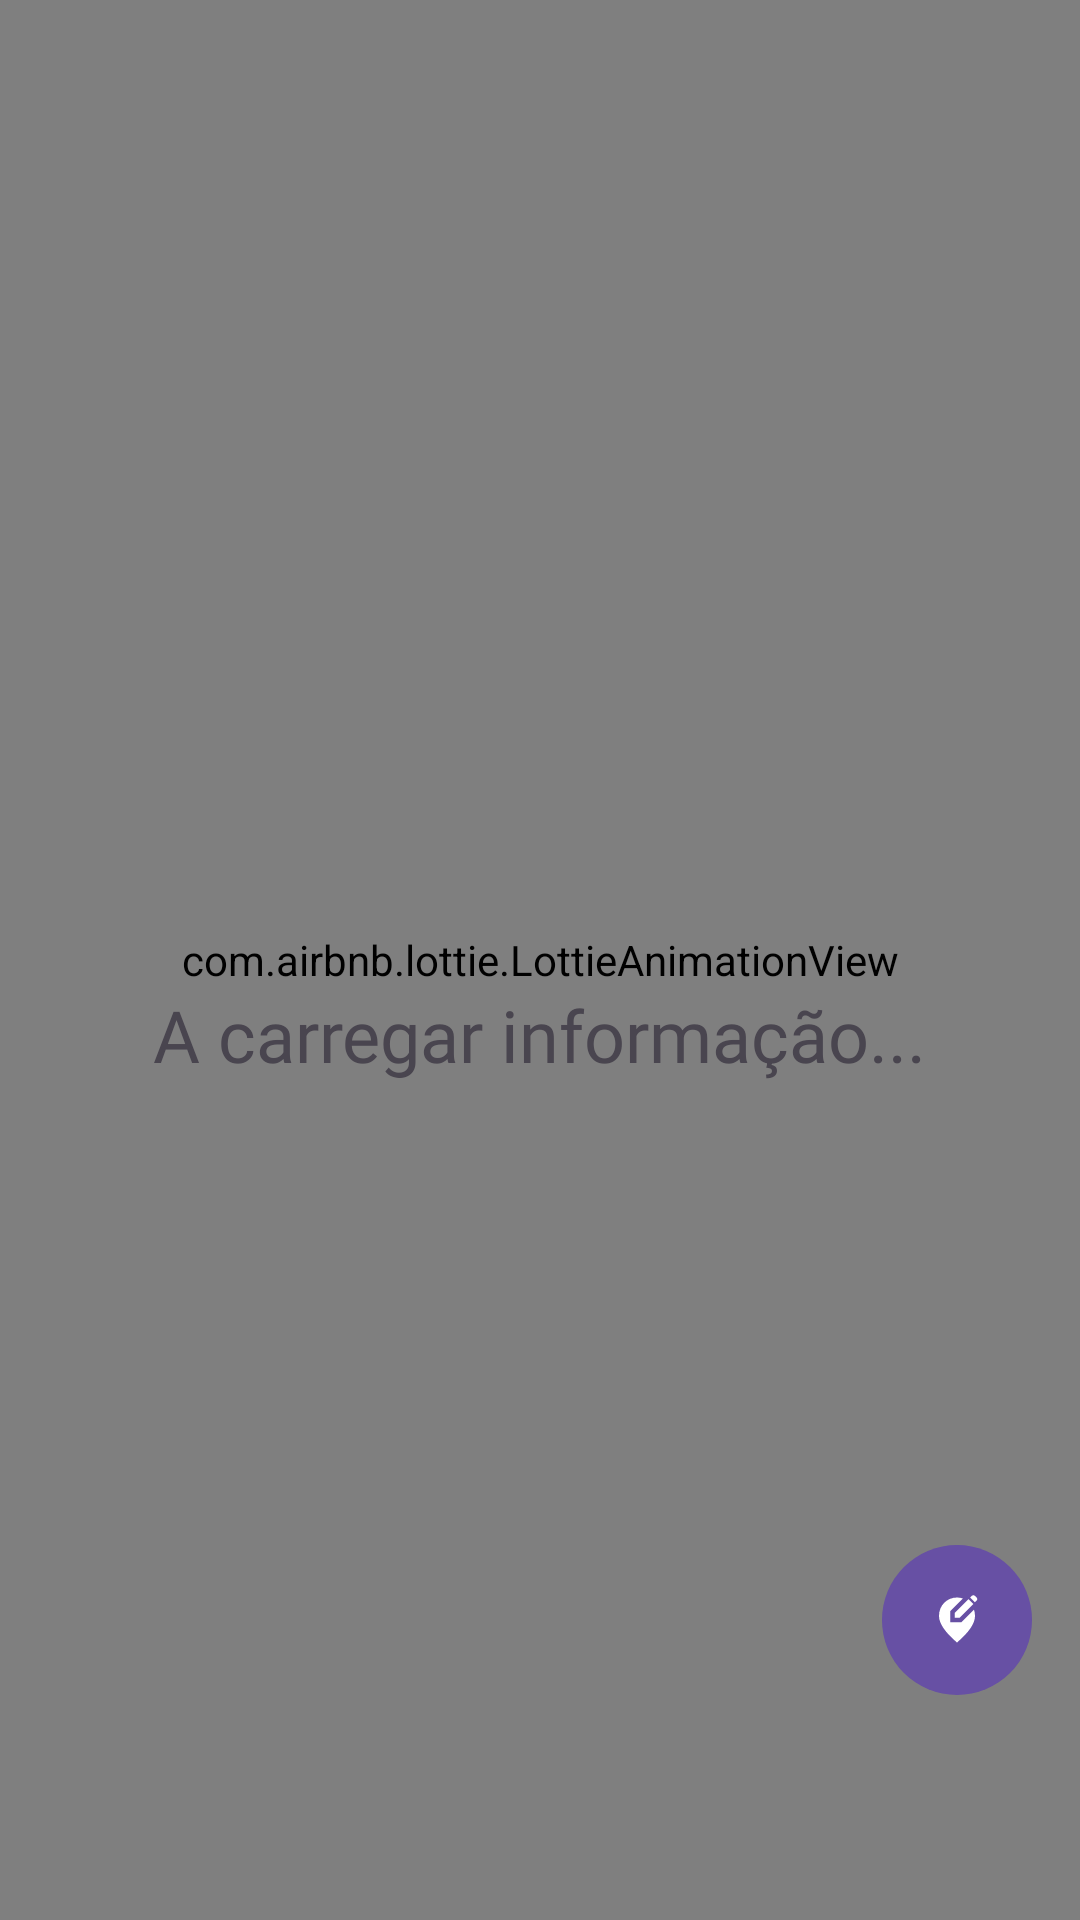

Named icons in this screenshot (1080*1920) and their bounding boxes, detection(x1, y1, x2, y2):
edit location: detection(882, 1545, 1032, 1695)
